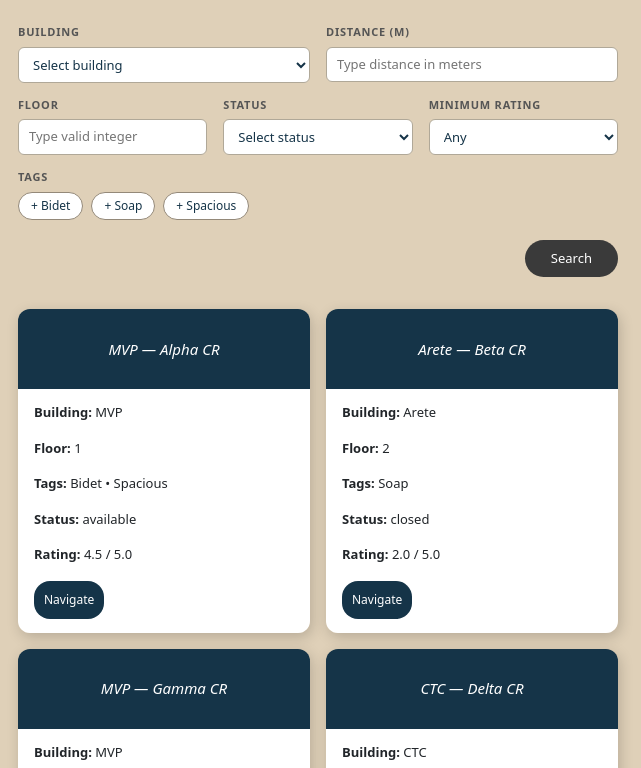
Test case: CR Search filters › filters by minimum rating ">= 3★" shows CRs rated 3 and above
Select "≥ 3★" in the dropdown showing "Any" below "Minimum Rating" at (523, 137), box [429, 119, 618, 155]
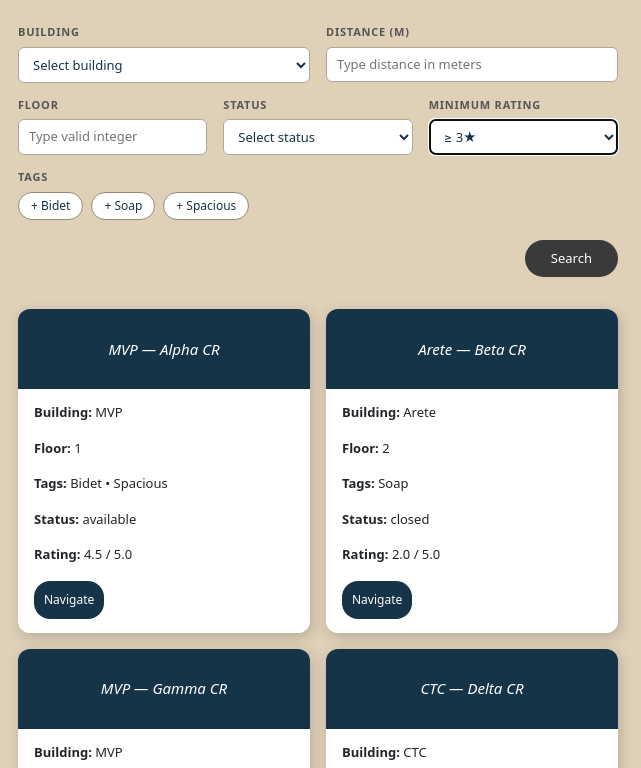
Click the button "Search".
click(571, 258)  # box [525, 240, 618, 277]
(page scrolled)
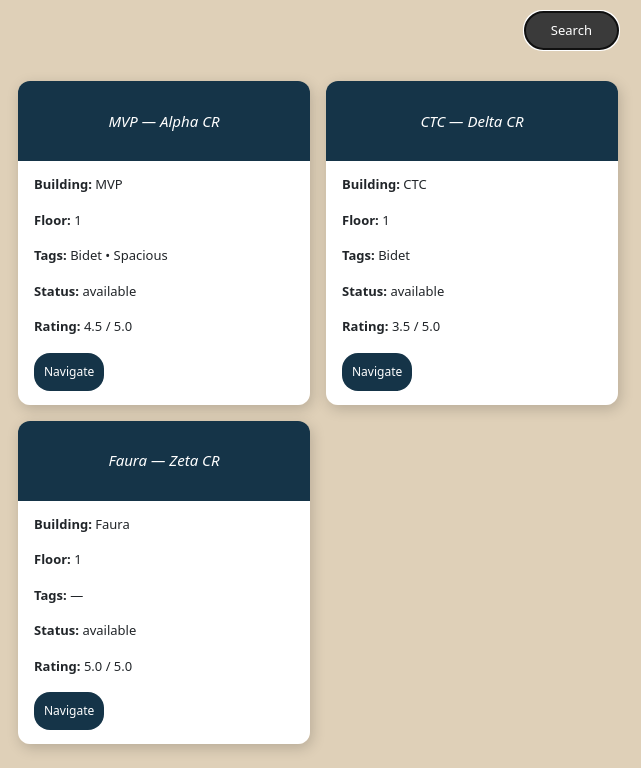
Expected: the text "Rating: 4.5 / 5.0" is shown, [34, 317, 132, 335]
Expected: the link "2.0 / 5" is gone
